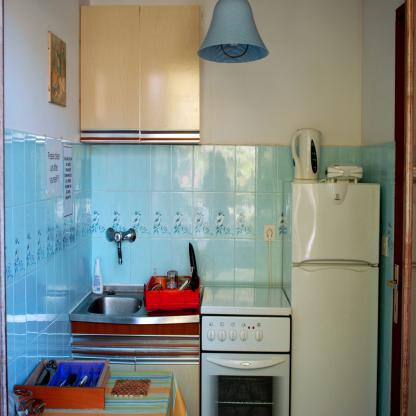door: (391, 4, 411, 416)
lever: (386, 278, 398, 292)
